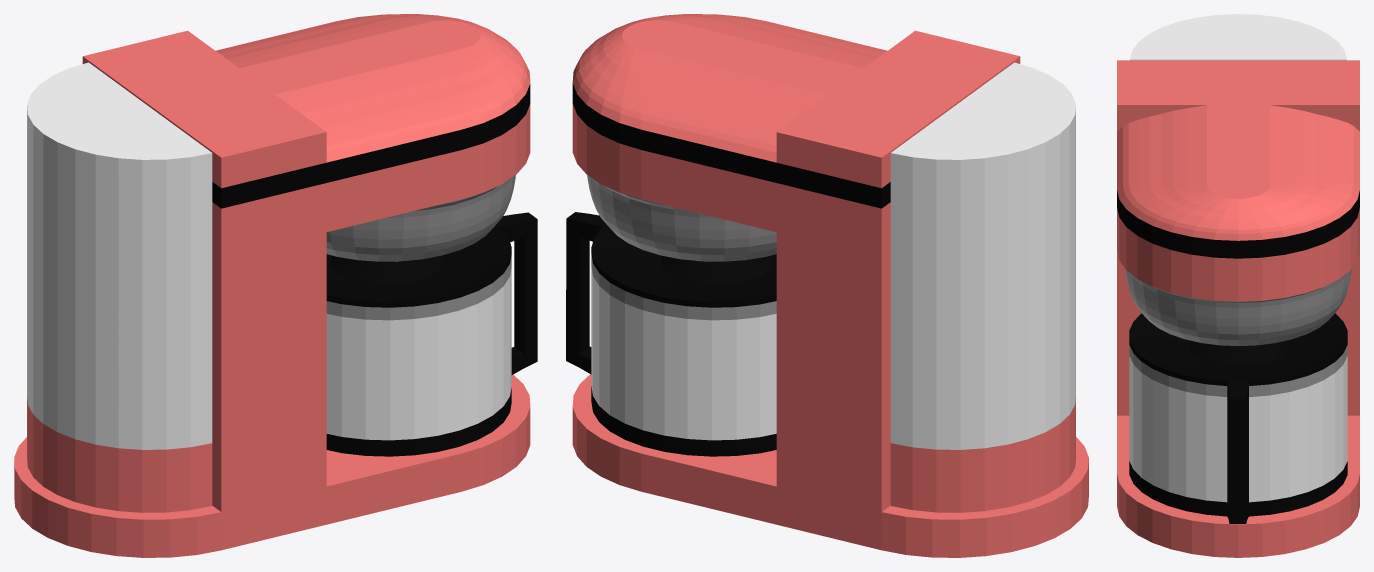
Rendered from Krups.glb.
The picture shows the model from 3 angles, left to right: view 1: azimuth 30°, elevation 25°; view 2: azimuth 150°, elevation 25°; view 3: azimuth 270°, elevation 25°; orthographic projection. The views are drawn at different scales.
Visible parts, largest first — view 1: Cafetière, Récipient, Carafe; view 2: Cafetière, Récipient, Carafe; view 3: Cafetière, Carafe, Récipient.
Part boxes in pixels (x1,y1,x2,y2): Cafetière: (14,14,530,557); Récipient: (27,62,212,512); Carafe: (326,212,537,456); Cafetière: (572,14,1088,557); Récipient: (890,62,1075,512); Carafe: (566,212,776,456); Cafetière: (1117,60,1359,557); Carafe: (1129,313,1347,523); Récipient: (1130,14,1346,60).
Size of the model in its own units: 4.17 by 3.12 by 2.
